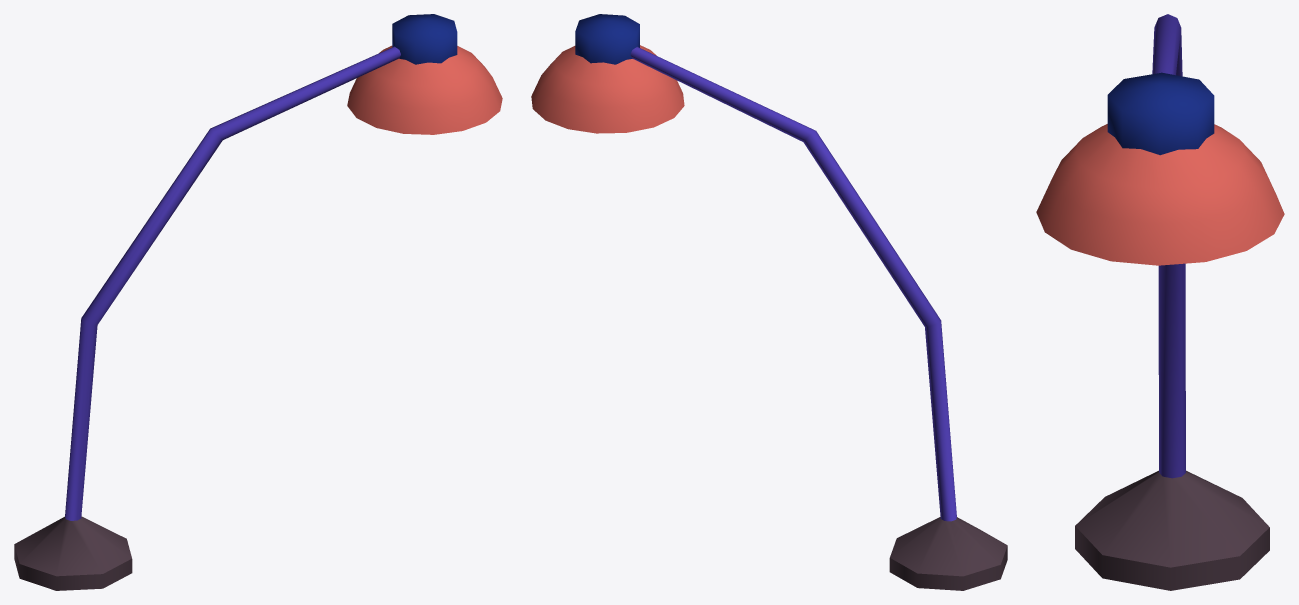
The picture shows the model from 3 angles, left to right: view 1: azimuth 30°, elevation 25°; view 2: azimuth 150°, elevation 25°; view 3: azimuth 270°, elevation 25°; orthographic projection. The views are drawn at different scales.
Visible parts, largest first — view 1: Joint_0_Object_0, Joint_0_Object_1; view 2: Joint_0_Object_0, Joint_0_Object_1; view 3: Joint_0_Object_0, Joint_0_Object_1.
Boxes of the visible parts, <box> form: Joint_0_Object_0: <box>14,45,502,590</box>; Joint_0_Object_1: <box>392,14,457,64</box>; Joint_0_Object_0: <box>531,45,1007,590</box>; Joint_0_Object_1: <box>575,14,639,64</box>; Joint_0_Object_0: <box>1036,14,1284,590</box>; Joint_0_Object_1: <box>1107,72,1214,155</box>.
Size of the model in its own units: 1083 by 1022 by 313.
